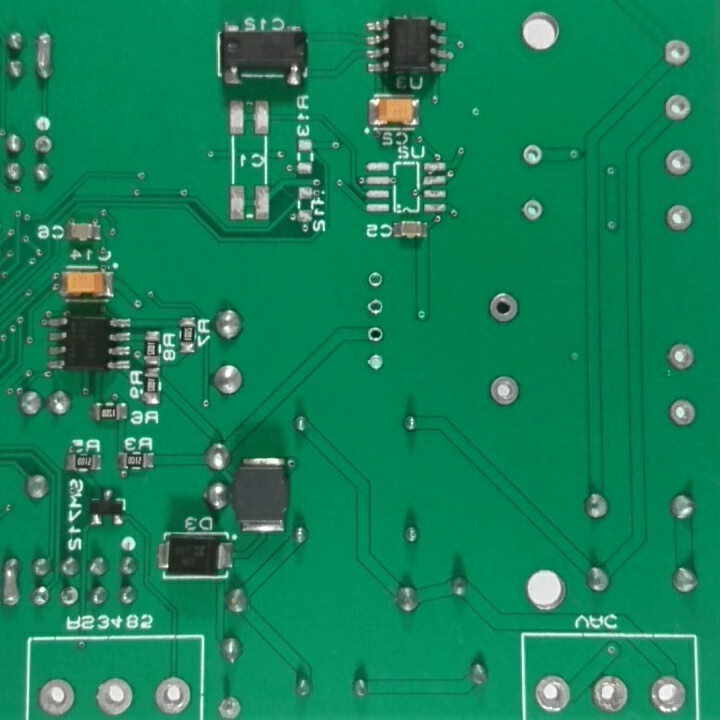F: (92, 673, 137, 717), (529, 672, 574, 716), (646, 672, 691, 716), (152, 672, 194, 717), (34, 675, 77, 717), (591, 672, 632, 715), (487, 370, 523, 409), (486, 289, 522, 326), (663, 338, 697, 375), (664, 198, 696, 234), (661, 92, 696, 123), (668, 395, 699, 429), (661, 37, 691, 70), (664, 145, 694, 178), (214, 693, 245, 720), (520, 140, 545, 170), (522, 196, 546, 223), (58, 585, 82, 610), (364, 352, 388, 377), (32, 135, 54, 160), (365, 296, 386, 320), (365, 269, 386, 289), (366, 327, 385, 346)
P: (1, 555, 24, 613), (34, 30, 57, 84)
